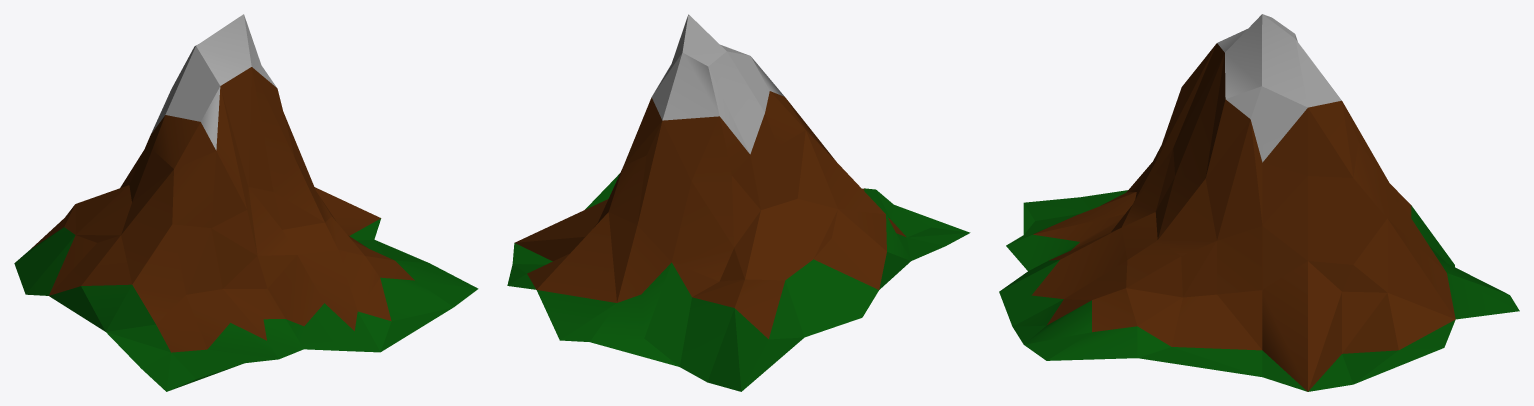
The model's file is mountain.fbx.
3 views of the same model, side by side, from view 1: azimuth 30°, elevation 25°; view 2: azimuth 150°, elevation 25°; view 3: azimuth 270°, elevation 25° (orthographic). The views are drawn at different scales.
Visible parts, largest first — view 1: pPlane1; view 2: pPlane1; view 3: pPlane1.
Boxes of the visible parts, x1,y1,x2,y2 form: pPlane1: (14,14,478,391); pPlane1: (507,14,970,391); pPlane1: (999,14,1519,391).
Size of what is drawn, in the model's own units: 25.07 by 19.52 by 28.13.
